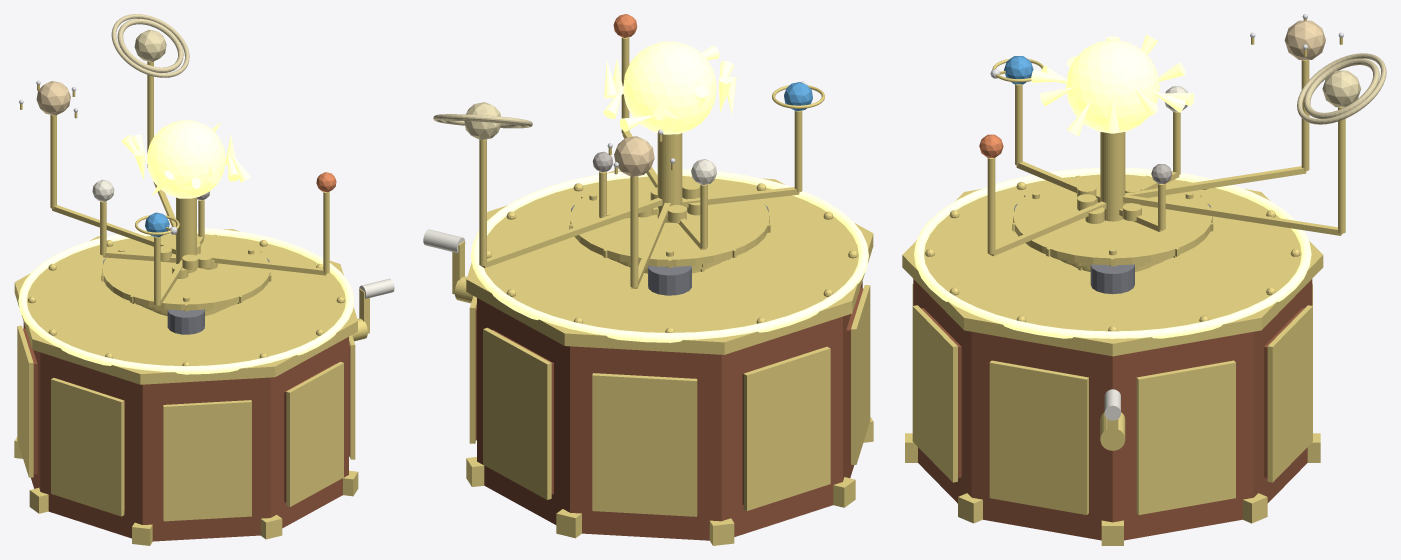
The model's file is celestial_orrery.glb.
The picture shows the model from 3 angles, left to right: view 1: azimuth 30°, elevation 25°; view 2: azimuth 150°, elevation 25°; view 3: azimuth 270°, elevation 25°; orthographic projection. The views are drawn at different scales.
Parts seen in each view (by area): view 1: Cylinder.003, Cylinder, Cube.011, Cube.009, Cylinder.007, Cube.013, Torus, Icosphere.012, Cube.007, Cylinder.014, Torus.007, Torus.006 (+13 smaller); view 2: Cylinder.003, Cylinder, Cube.005, Cube.007, Cube.003, Cylinder.007, Torus, Icosphere.012, Cube.009, Cylinder.014, Cube.059, Icosphere.018 (+16 smaller); view 3: Cylinder.003, Cylinder, Cube.001, Cube.015, Cylinder.007, Torus, Cube.003, Cube.013, Icosphere.012, Cylinder.014, Cube.059, Cube.058 (+16 smaller).
Part boxes in pixels (x1=…): Cylinder.003: x1=14, y1=229, x2=357, y2=384; Cylinder: x1=23, y1=322, x2=348, y2=541; Cube.011: x1=163, y1=400, x2=251, y2=521; Cube.009: x1=51, y1=378, x2=124, y2=516; Cylinder.007: x1=102, y1=233, x2=270, y2=310; Cube.013: x1=286, y1=362, x2=343, y2=506; Torus: x1=18, y1=228, x2=354, y2=374; Icosphere.012: x1=147, y1=120, x2=225, y2=198; Cube.007: x1=17, y1=325, x2=33, y2=477; Cylinder.014: x1=176, y1=197, x2=196, y2=273; Torus.007: x1=111, y1=14, x2=189, y2=77; Torus.006: x1=117, y1=18, x2=183, y2=72; Cylinder.003: x1=466, y1=170, x2=873, y2=354; Cylinder: x1=477, y1=281, x2=862, y2=540; Cube.005: x1=592, y1=373, x2=697, y2=516; Cube.007: x1=743, y1=346, x2=830, y2=510; Cube.003: x1=483, y1=327, x2=551, y2=499; Cylinder.007: x1=570, y1=176, x2=769, y2=266; Torus: x1=471, y1=169, x2=868, y2=342; Icosphere.012: x1=623, y1=41, x2=716, y2=134; Cube.009: x1=851, y1=285, x2=870, y2=464; Cylinder.014: x1=657, y1=133, x2=682, y2=222; Cube.059: x1=481, y1=197, x2=662, y2=267; Icosphere.018: x1=614, y1=136, x2=654, y2=176; Cylinder.003: x1=902, y1=176, x2=1323, y2=356; Cylinder: x1=913, y1=279, x2=1312, y2=540; Cube.001: x1=1136, y1=360, x2=1235, y2=514; Cube.015: x1=989, y1=360, x2=1088, y2=514; Cylinder.007: x1=1013, y1=174, x2=1212, y2=265; Torus: x1=914, y1=168, x2=1311, y2=338; Cube.003: x1=1267, y1=305, x2=1312, y2=482; Cube.013: x1=912, y1=305, x2=957, y2=482; Icosphere.012: x1=1065, y1=39, x2=1159, y2=133; Cylinder.014: x1=1100, y1=132, x2=1125, y2=221; Cube.059: x1=1123, y1=194, x2=1342, y2=235; Cube.058: x1=1125, y1=166, x2=1306, y2=197.
Bounding box in the file's own units: 1.77 × 1.7 × 1.75.
